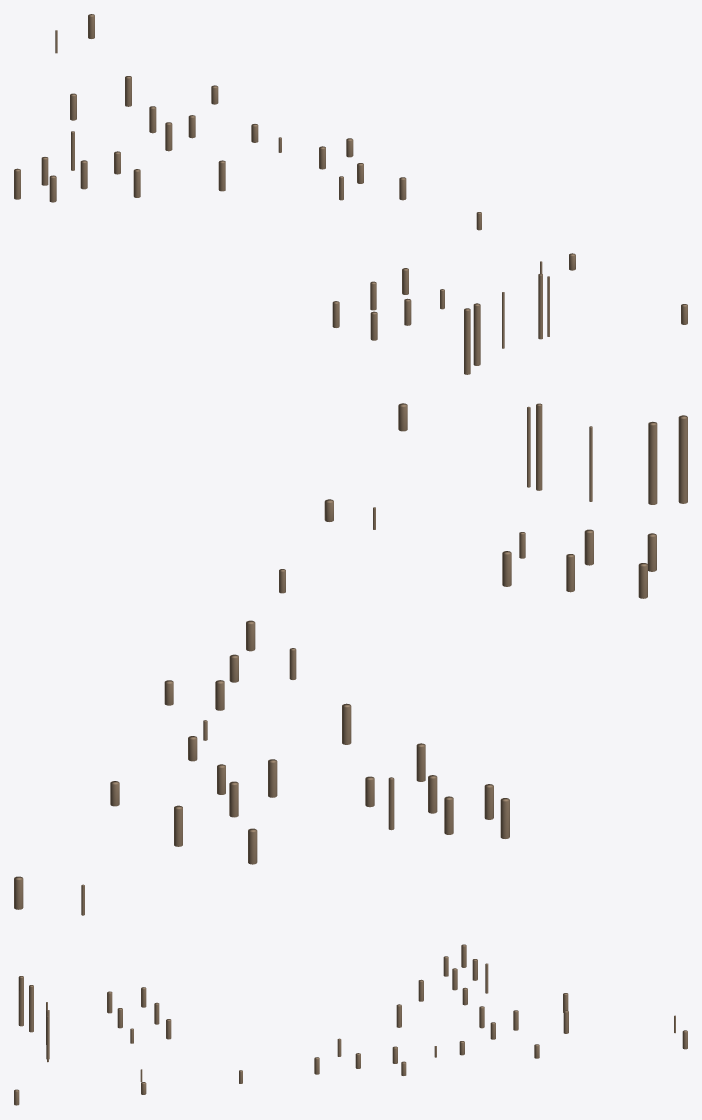
The model's file is trunks.glb.
3 views of the same model, one above another, from view 1: azimuth 30°, elevation 25°; view 2: azimuth 150°, elevation 25°; view 3: azimuth 270°, elevation 25° (orthographic). The views are drawn at different scales.
Visible parts, largest first — view 1: Yard_trunks; view 2: Yard_trunks; view 3: Yard_trunks.
Boxes of the visible parts, x1=… form: Yard_trunks: x1=14, y1=14, x2=687, y2=374; Yard_trunks: x1=14, y1=403, x2=687, y2=915; Yard_trunks: x1=14, y1=944, x2=687, y2=1105.
Bounding box in the file's own units: 49.99 × 8.05 × 102.
